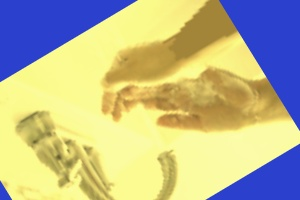washing hand: (37, 4, 271, 199)
